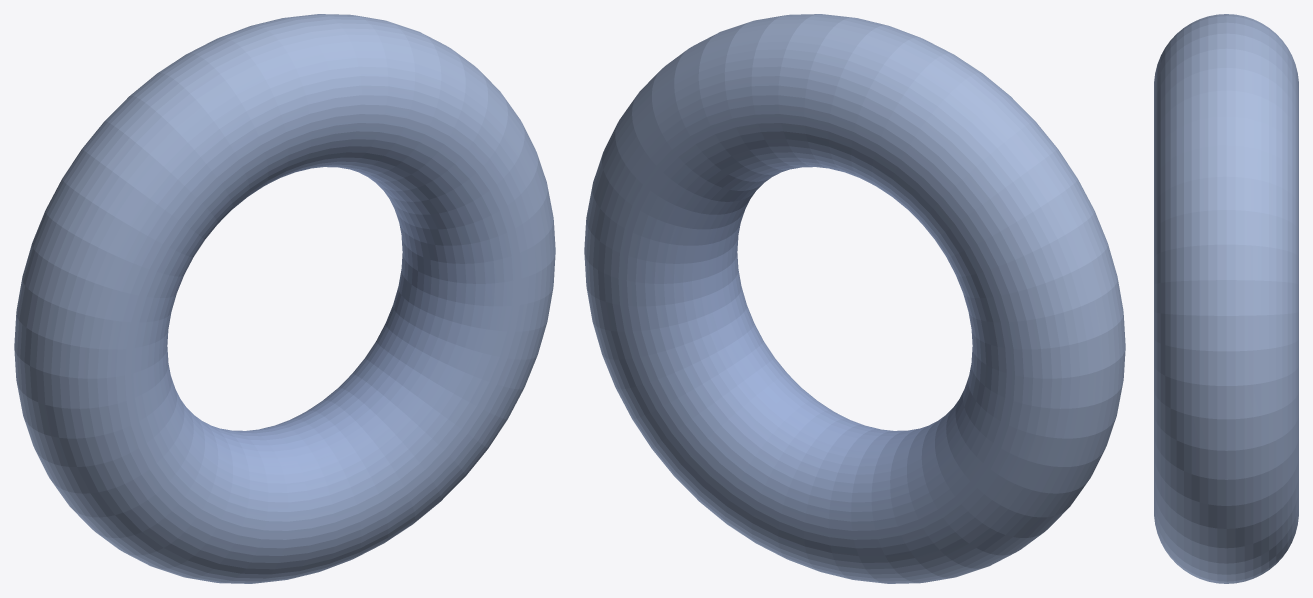
The picture shows the model from 3 angles, left to right: view 1: azimuth 30°, elevation 25°; view 2: azimuth 150°, elevation 25°; view 3: azimuth 270°, elevation 25°; orthographic projection. The views are drawn at different scales.
Visible parts, largest first — view 1: world; view 2: world; view 3: world.
Part boxes in pixels (x1,y1,x2,y2): world: (14, 14, 555, 583); world: (584, 14, 1125, 583); world: (1154, 14, 1298, 583).
Size of the model in its own units: 21.47 by 21.42 by 5.46.
